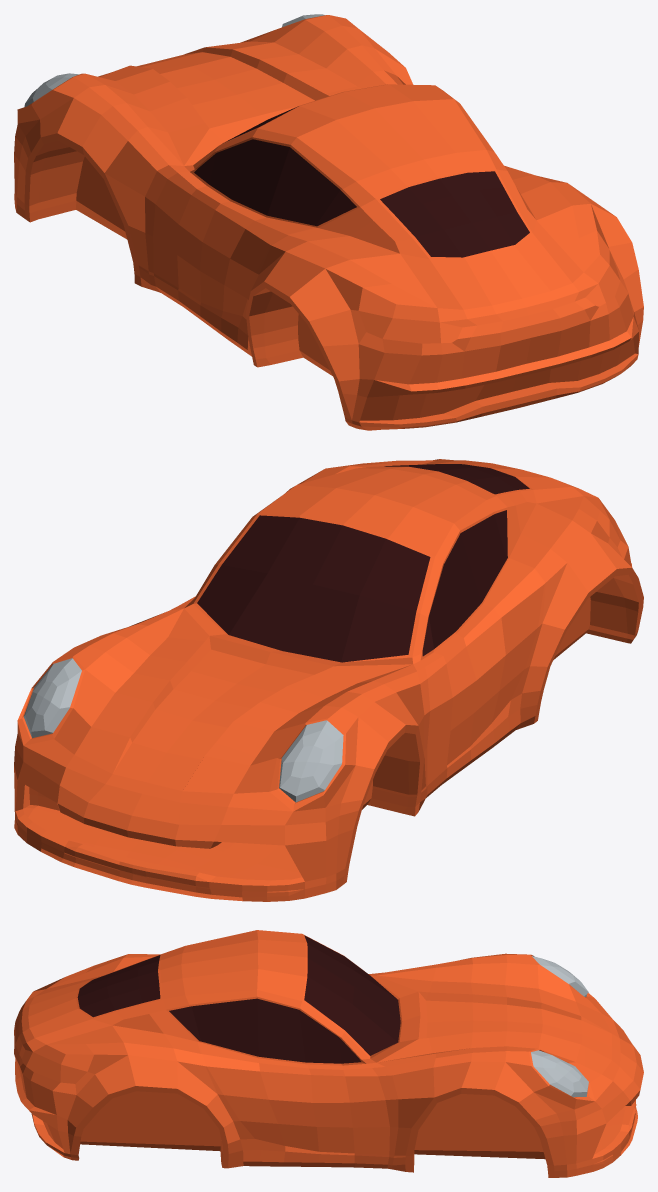
The model's file is porsche.obj.
The picture shows the model from 3 angles, top to bottom: view 1: azimuth 30°, elevation 25°; view 2: azimuth 150°, elevation 25°; view 3: azimuth 270°, elevation 25°; orthographic projection. The views are drawn at different scales.
Visible parts, largest first — view 1: porsche.obj; view 2: porsche.obj; view 3: porsche.obj.
Part boxes in pixels (x1,y1,x2,y2): porsche.obj: [14, 14, 643, 430]; porsche.obj: [14, 459, 643, 901]; porsche.obj: [14, 930, 643, 1177].
Bounding box in the file's own units: 2.13 × 1.3 × 4.46.
